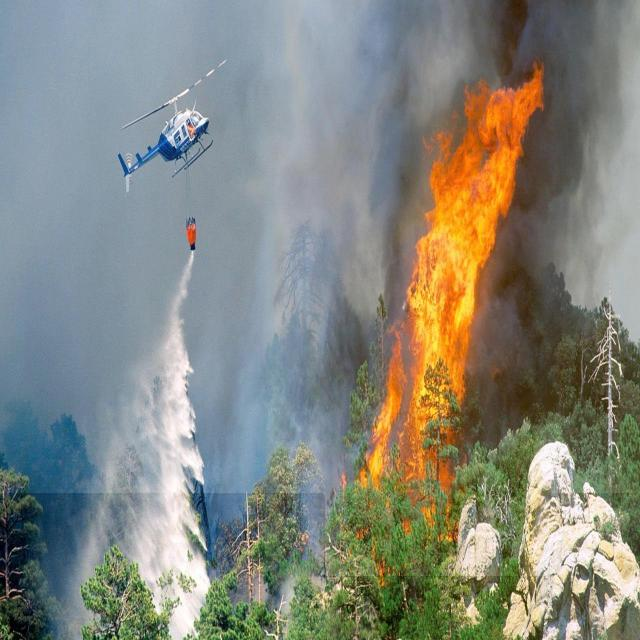Fire: (325, 69, 549, 576)
Smoke: (0, 0, 640, 493)
